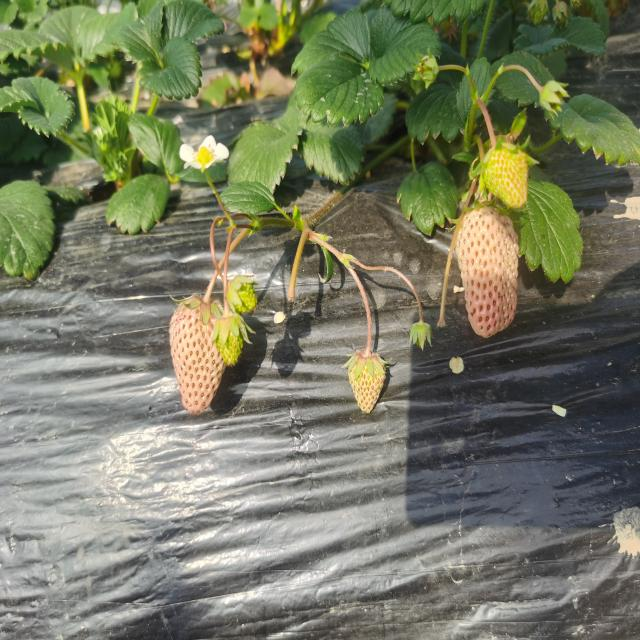stem: (202, 271, 218, 305)
strawberry: (456, 204, 519, 338), (169, 295, 225, 414)
